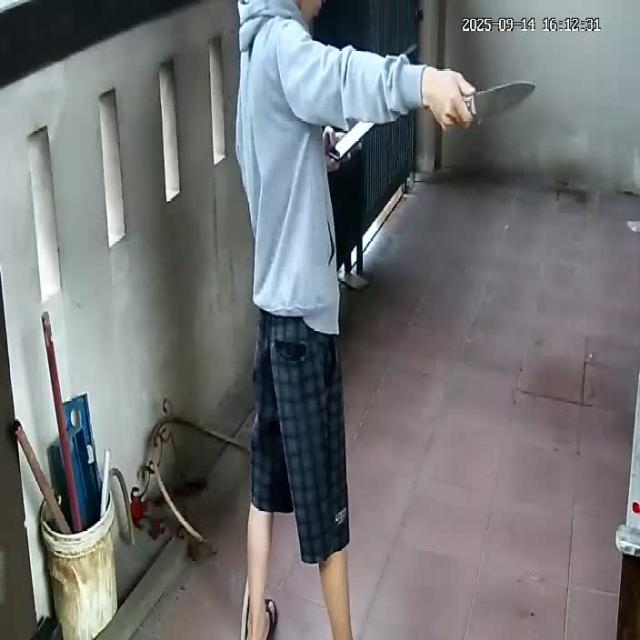senjata_tajam: (468, 78, 539, 122)
